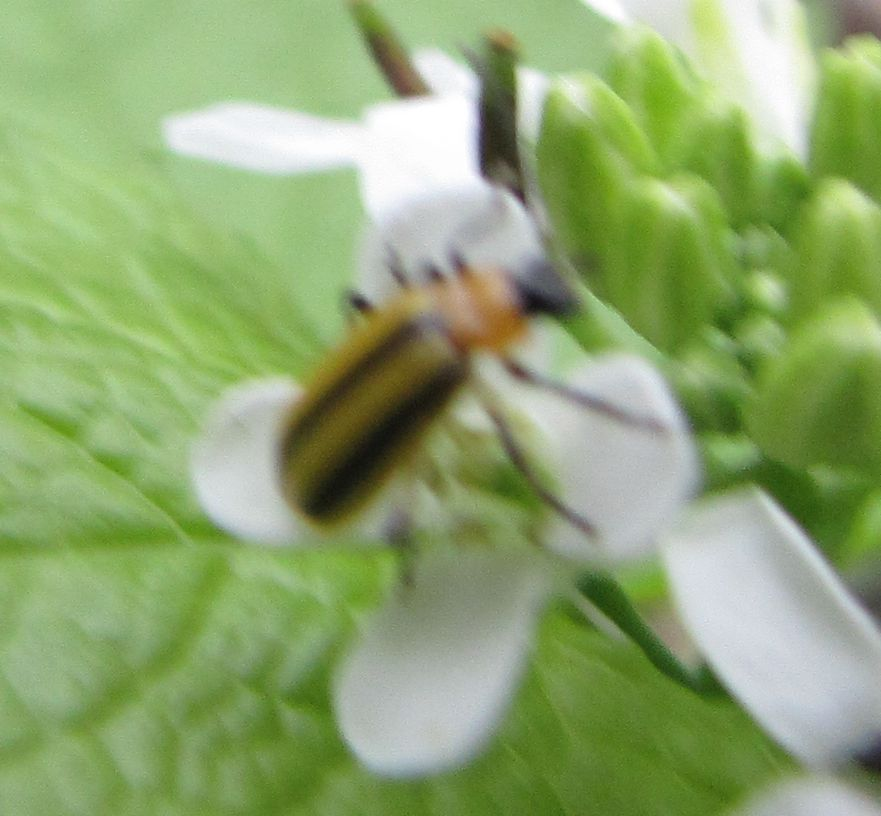potato_beetle: (142, 0, 746, 603)
